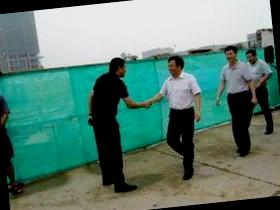no_helmet: (165, 52, 187, 78), (108, 55, 128, 81), (221, 42, 240, 64), (244, 46, 260, 66)
